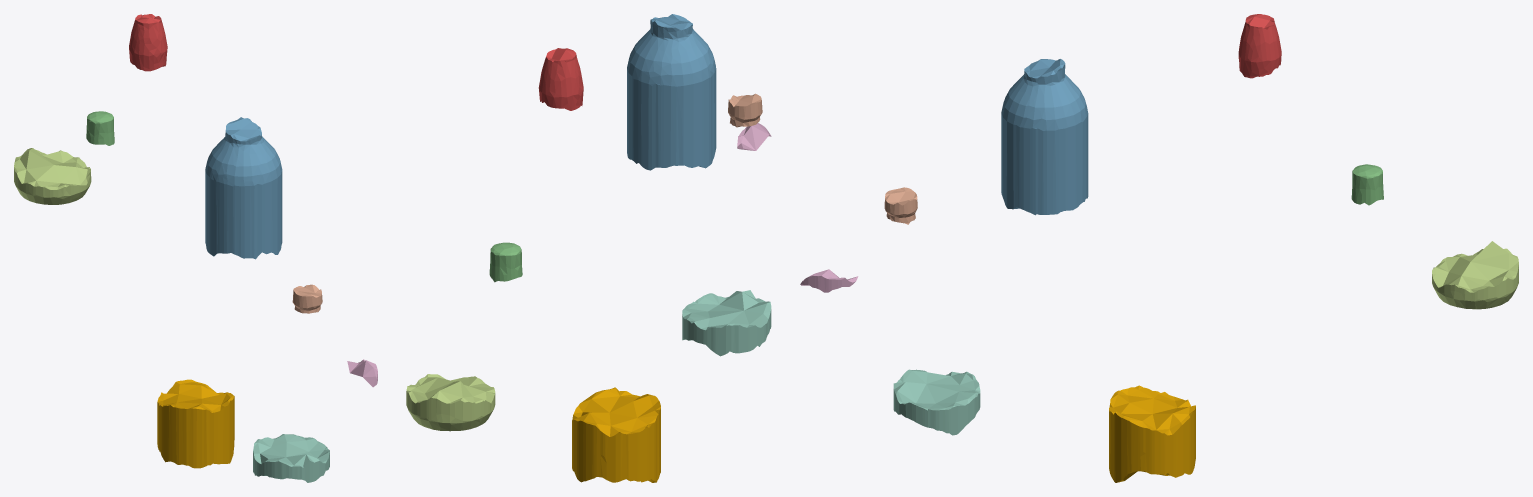
Rendered from fractured_60_8pcs_transformed.glb.
3 views of the same model, side by side, from view 1: azimuth 30°, elevation 25°; view 2: azimuth 150°, elevation 25°; view 3: azimuth 270°, elevation 25° (orthographic). The views are drawn at different scales.
Visible parts, largest first — view 1: piece_2.obj, piece_0.obj, piece_5.obj, piece_4.obj, piece_1.obj, piece_3.obj, piece_7.obj, piece_6.obj; view 2: piece_2.obj, piece_0.obj, piece_4.obj, piece_5.obj, piece_1.obj, piece_3.obj, piece_7.obj, piece_6.obj; view 3: piece_2.obj, piece_0.obj, piece_4.obj, piece_5.obj, piece_1.obj, piece_3.obj, piece_7.obj.
Part boxes in pixels (<box>): piece_2.obj: <box>205,117,282,259</box>; piece_0.obj: <box>157,379,234,468</box>; piece_5.obj: <box>14,148,91,204</box>; piece_4.obj: <box>253,434,329,482</box>; piece_1.obj: <box>129,14,167,71</box>; piece_3.obj: <box>86,111,114,145</box>; piece_7.obj: <box>292,284,322,313</box>; piece_6.obj: <box>347,359,377,387</box>; piece_2.obj: <box>627,14,716,170</box>; piece_0.obj: <box>572,387,660,482</box>; piece_4.obj: <box>682,290,771,356</box>; piece_5.obj: <box>406,374,495,431</box>; piece_1.obj: <box>538,48,583,110</box>; piece_3.obj: <box>489,242,522,282</box>; piece_7.obj: <box>728,93,762,127</box>; piece_6.obj: <box>737,123,771,150</box>; piece_2.obj: <box>1001,59,1088,215</box>; piece_0.obj: <box>1109,385,1195,482</box>; piece_4.obj: <box>893,369,980,435</box>; piece_5.obj: <box>1432,241,1518,309</box>; piece_1.obj: <box>1238,14,1281,78</box>; piece_3.obj: <box>1351,164,1383,205</box>; piece_7.obj: <box>884,187,917,224</box>.
Bounding box in the file's own units: 0.242 × 1.4 × 2.
